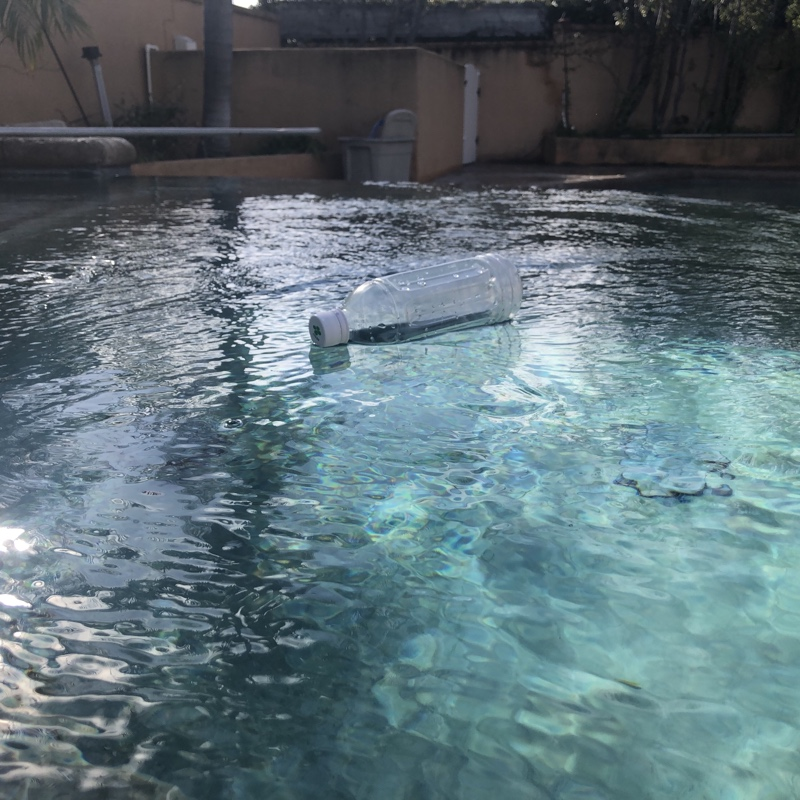Plastic Bottle: (305, 251, 524, 349)
